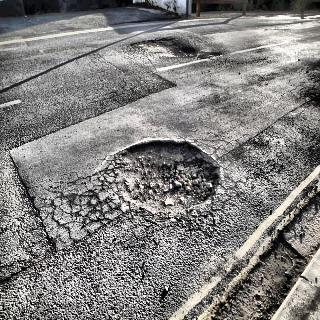alligator-crack: (49, 167, 120, 245)
crack: (8, 152, 30, 190), (1, 260, 31, 286), (28, 194, 46, 233)
pothole: (105, 138, 223, 214), (215, 228, 308, 320), (128, 36, 196, 57)
